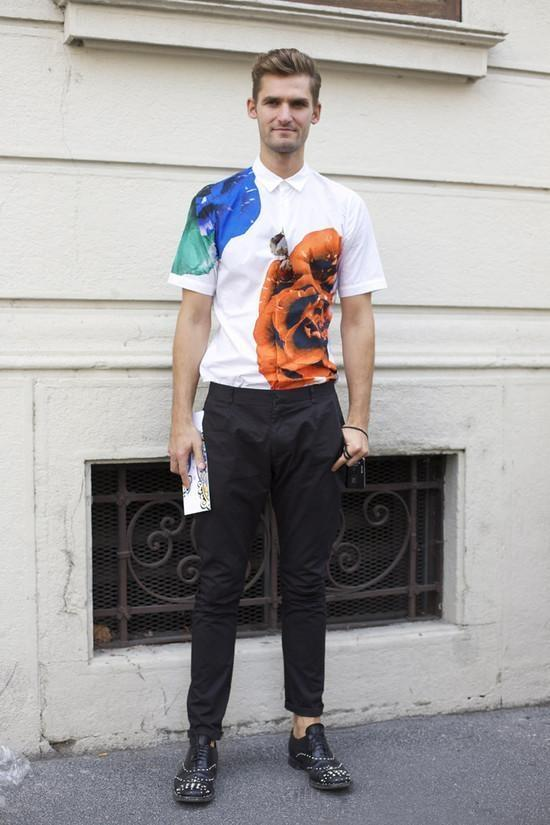pants: (186, 382, 348, 734)
shirt: (167, 153, 388, 392)
